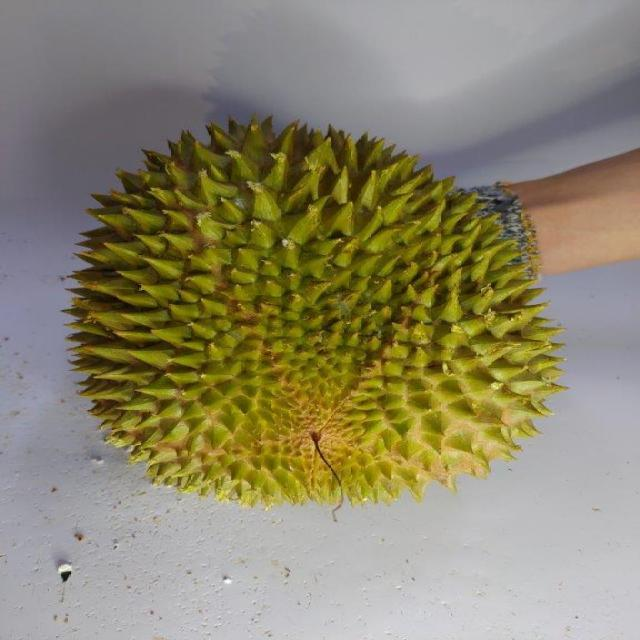immature: (66, 113, 574, 516)
